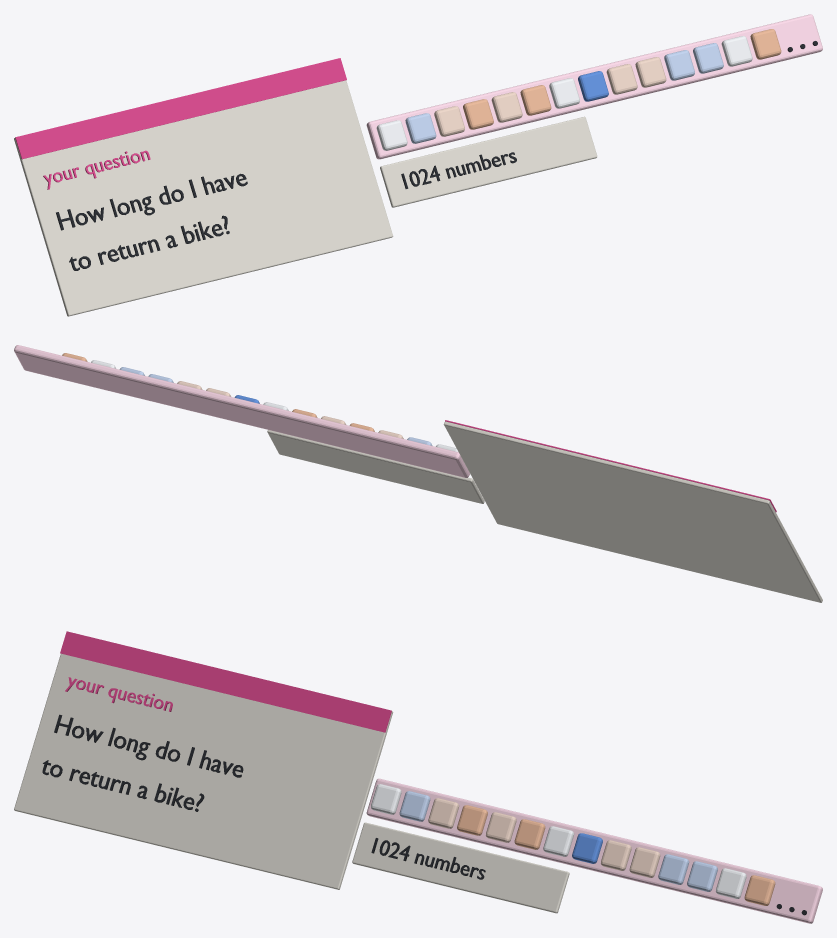
The model's file is query_encoder.glb.
3 views of the same model, one above another, from view 1: azimuth 30°, elevation 25°; view 2: azimuth 150°, elevation 25°; view 3: azimuth 330°, elevation 25° (orthographic).
Visible parts, largest first — view 1: q_stock, q_vec, q_vec_bar, q_vec_tag, q_stripe, q_line1, q_vec_more; view 2: q_stock, q_vec_bar, q_vec_tag, q_vec, q_stripe; view 3: q_stock, q_vec, q_vec_bar, q_vec_tag, q_stripe, q_line1, q_vec_more.
Boxes of the visible parts, x1,y1,x2,y2 form: q_stock: [14, 80, 393, 316]; q_vec: [376, 29, 781, 150]; q_vec_bar: [366, 14, 822, 159]; q_vec_tag: [380, 116, 597, 207]; q_stripe: [15, 58, 346, 189]; q_line1: [56, 173, 247, 270]; q_vec_more: [401, 41, 817, 188]; q_stock: [443, 421, 822, 602]; q_vec_bar: [14, 345, 469, 477]; q_vec_tag: [267, 430, 484, 503]; q_vec: [62, 353, 458, 452]; q_stripe: [445, 420, 776, 512]; q_stock: [14, 653, 393, 889]; q_vec: [371, 784, 775, 905]; q_vec_bar: [366, 778, 822, 923]; q_vec_tag: [352, 822, 569, 913]; q_stripe: [60, 631, 391, 732]; q_line1: [42, 714, 243, 811]; q_vec_more: [371, 838, 806, 915].
Size of the model in its own units: 0.621 by 0.1084 by 0.0764.
